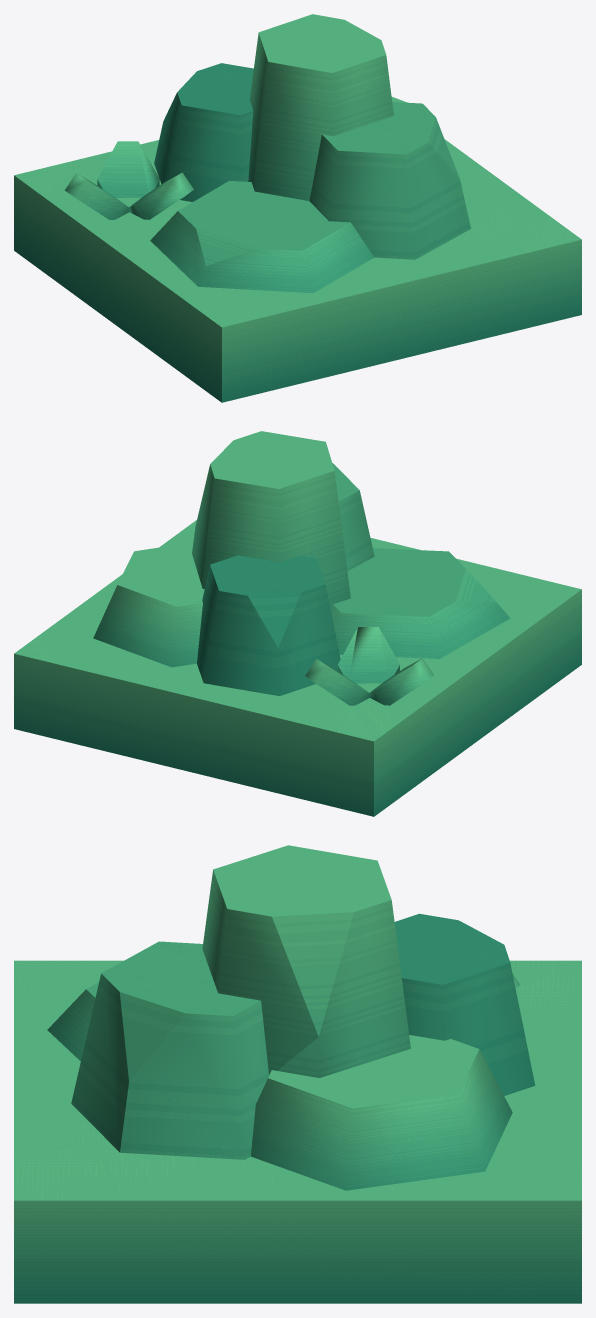
Rendered from tile-hill.glb.
3 renders of one model, top to bottom at view 1: azimuth 30°, elevation 25°; view 2: azimuth 150°, elevation 25°; view 3: azimuth 270°, elevation 25°, orthographic. The views are drawn at different scales.
Visible parts, largest first — view 1: tile-hill; view 2: tile-hill; view 3: tile-hill.
Boxes of the visible parts, x1,y1,x2,y2 form: tile-hill: [14, 14, 581, 402]; tile-hill: [14, 431, 581, 816]; tile-hill: [14, 845, 581, 1303].
Size of the model in its own units: 1 by 0.6145 by 1.
1 material, 1 textured.
